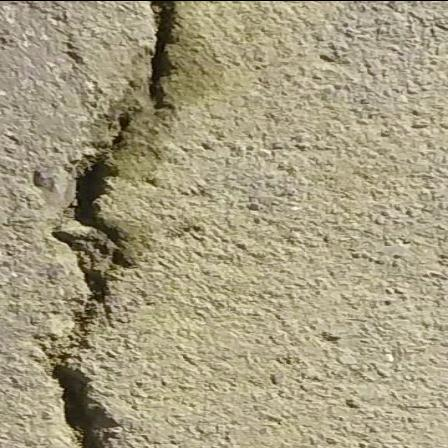crack: (13, 0, 194, 448)
